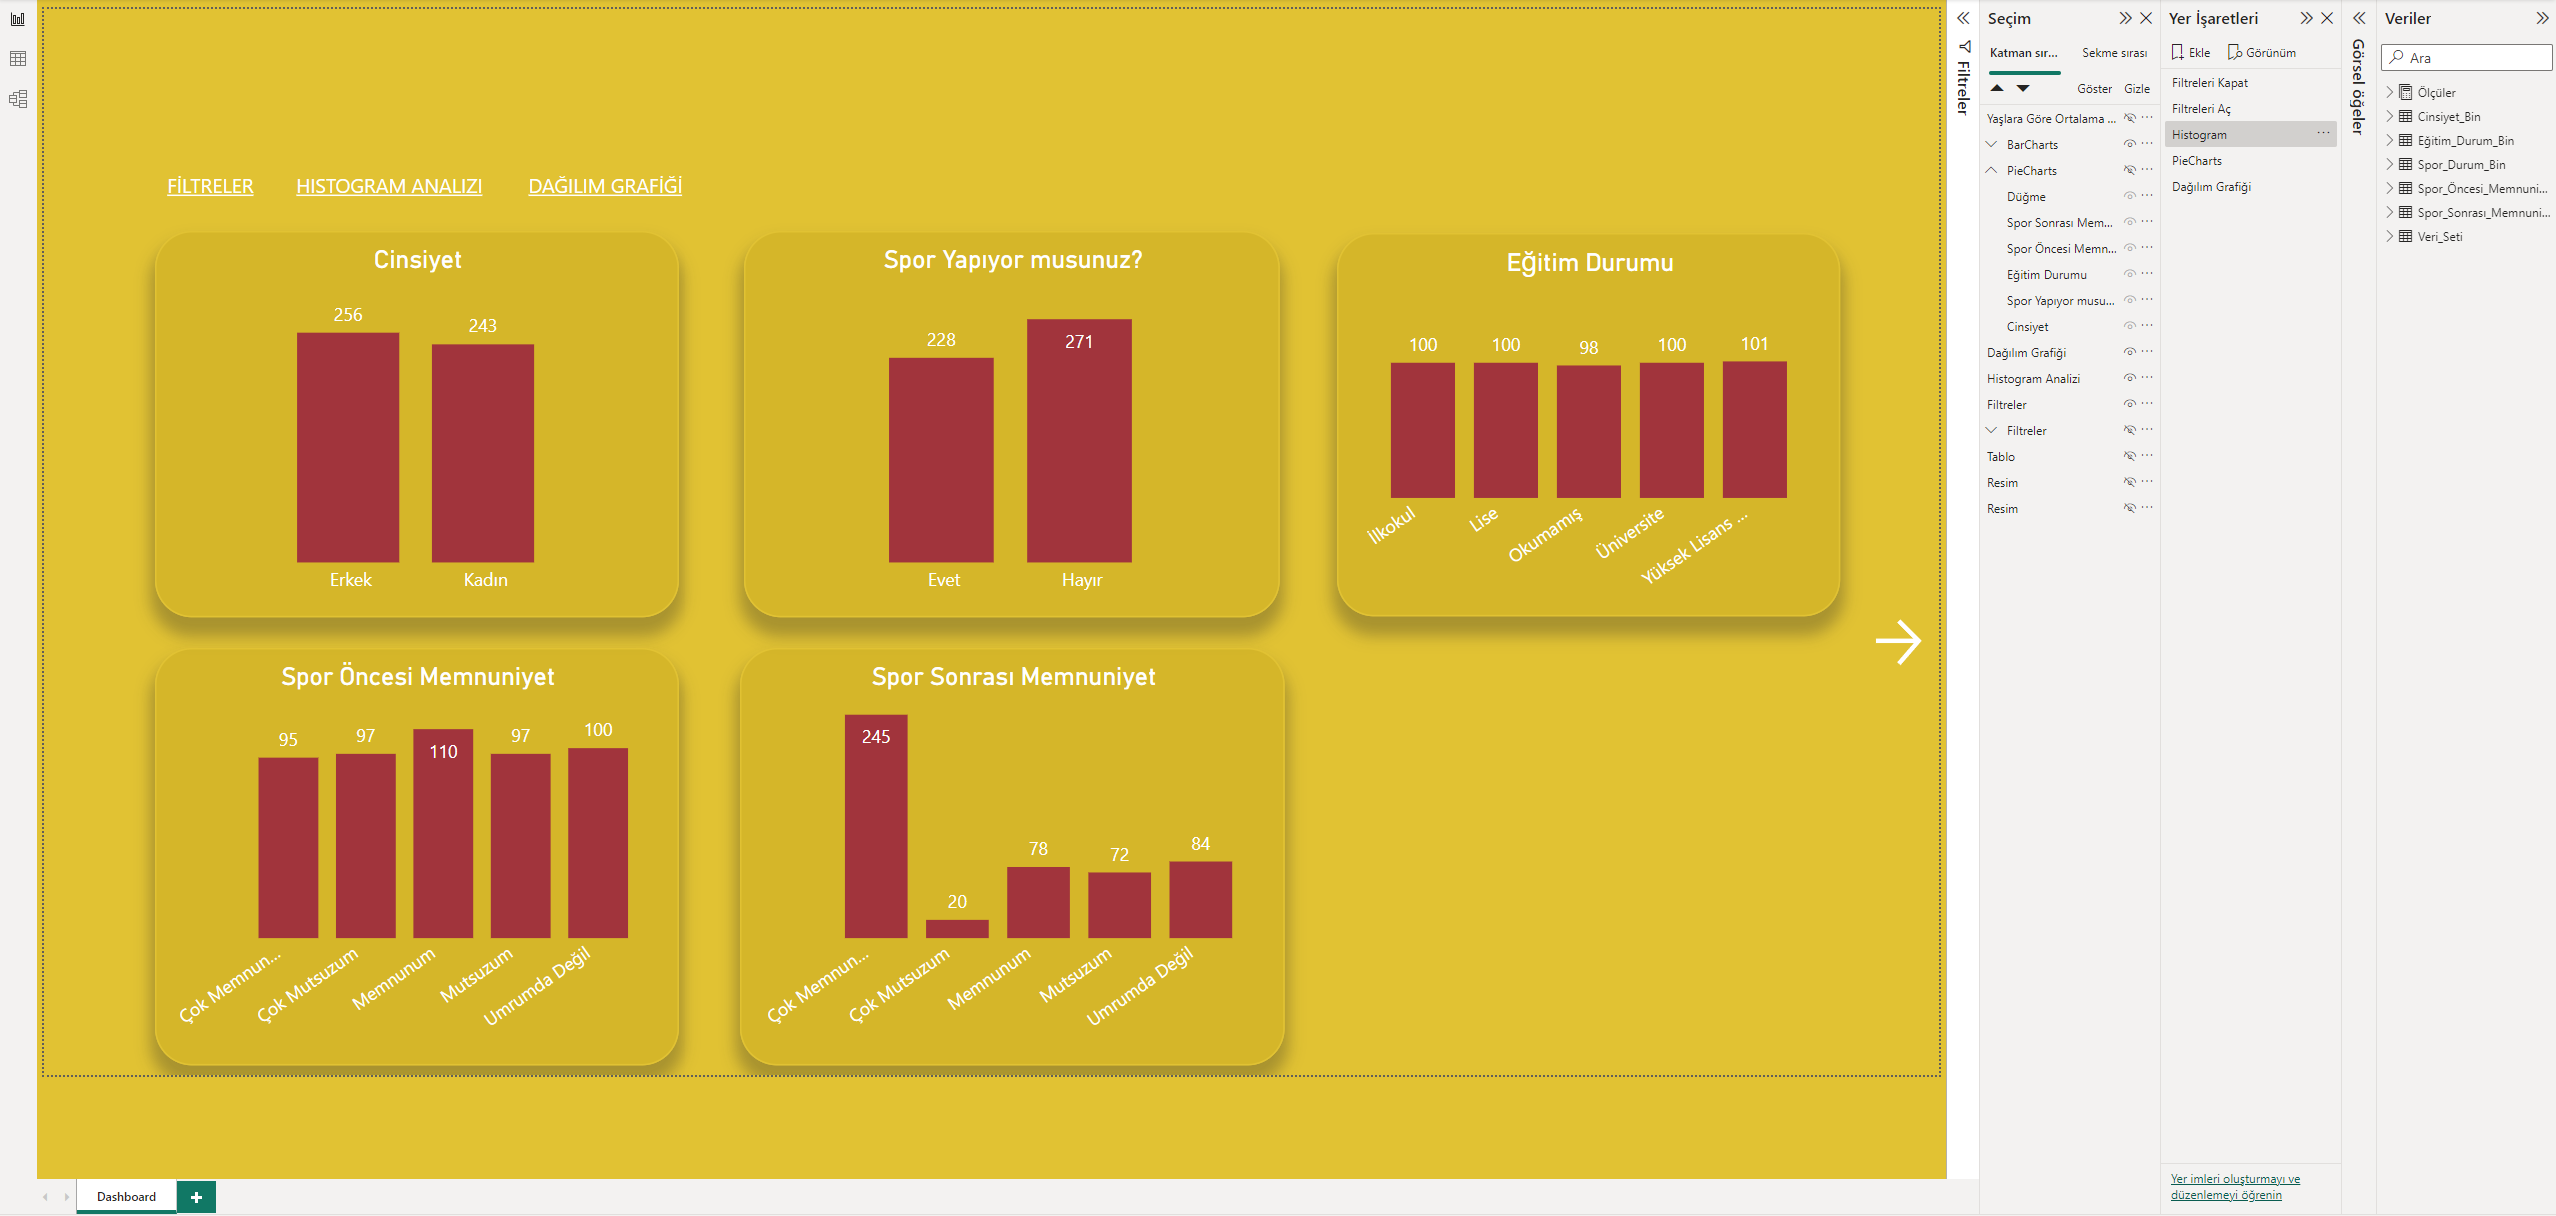

This screenshot's page, from the dashboard's own definition file:
{"tool":"powerbi","page":{"name":"Dashboard","canvas":[1280,720],"ordinal":0},"visuals":[{"type":"image","box":[0,302.4,431.1,417.7],"z":0},{"type":"image","box":[917.9,0,362.1,435.2],"z":500},{"type":"tableEx","fields":{"Values":["Sum(Sayfa1.Cinsiyet)","Cinsiyet_Bin.Cinsiyet","Sum(Sayfa1.Eğitim  Durumu)","Eğitim_Durum_Bin.Eğitim Durumu","Sum(Sayfa1.Kaç Dakika)","Sum(Sayfa1.Spor Öncesi Menuniyet)","Spor_Öncesi_Memnuniyet_Bin.Hayatından Duyduğu Memnuniyet","Sum(Sayfa1.Spor Sonrası Memnuniyet)","Spor_Sonrası_Memnuniyet_Bin.Hayatından Duyduğu Memnuniyet","Sum(Sayfa1.Spor Yapmak)","Spor_Durum_Bin.Spor Yapıyor musunuz?","Sum(Sayfa1.Yaş)"]},"box":[58.8,134.3,1160.9,572.8],"z":1000},{"type":"actionButton","title":"Filtreler","box":[74.8,103.1,74.8,31.2],"z":3000},{"type":"actionButton","title":"Histogram Analizi","box":[164.1,103.1,138.7,31.2],"z":4000},{"type":"actionButton","title":"Dağılım Grafiği","box":[310,103.1,138.7,31.2],"z":5000}]}

Visuals, with their boxes on the page's 1280x720 design canvas (x1, y1, x2, y2). These are canvas units, not pixel positions in the 2556x1216 screenshot, which may show the page scaled, cropped or inside an application window:
image: (left=0, top=302, right=431, bottom=720)
image: (left=918, top=0, right=1280, bottom=435)
tableEx - Sum(Sayfa1.Cinsiyet) x Cinsiyet_Bin.Cinsiyet: (left=59, top=134, right=1220, bottom=707)
"Filtreler" actionButton: (left=75, top=103, right=150, bottom=134)
"Histogram Analizi" actionButton: (left=164, top=103, right=303, bottom=134)
"Dağılım Grafiği" actionButton: (left=310, top=103, right=449, bottom=134)
